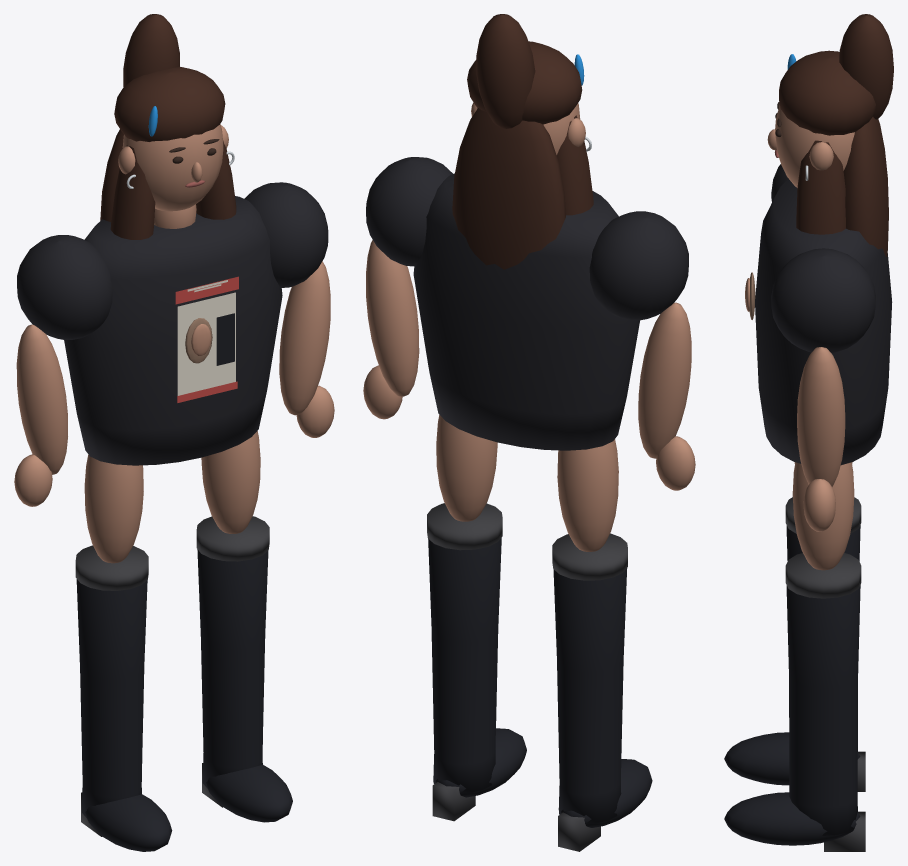
The model's file is reference_woman.glb.
3 views of the same model, side by side, from view 1: azimuth 30°, elevation 25°; view 2: azimuth 150°, elevation 25°; view 3: azimuth 270°, elevation 25° (orthographic). The views are drawn at different scales.
Visible parts, largest first — view 1: Oversized black graphic tee, Right tall boot shaft, Left tall boot shaft, Left tee sleeve, Hair cap, Right arm, Right tee sleeve, Left arm, Left lower leg, Face, Right lower leg, Ivory collage panel (+13 smaller); view 2: Oversized black graphic tee, Left tall boot shaft, Right tall boot shaft, Long back hair, Left tee sleeve, Left arm, Right tee sleeve, Right arm, Left lower leg, Half-up ponytail, Right lower leg, Hair cap (+10 smaller); view 3: Oversized black graphic tee, Right tall boot shaft, Right tee sleeve, Hair cap, Right arm, Long back hair, Right boot toe, Right lower leg, Half-up ponytail, Right wavy side lock, Left boot toe, Right boot cuff (+7 smaller).
Boxes of the visible parts, <box> form: Oversized black graphic tee: <box>64,196,282,465</box>; Right tall boot shaft: <box>197,549,268,788</box>; Left tall boot shaft: <box>76,579,147,817</box>; Left tee sleeve: <box>17,235,112,339</box>; Hair cap: <box>114,66,225,141</box>; Right arm: <box>279,261,330,415</box>; Right tee sleeve: <box>244,182,328,287</box>; Left arm: <box>16,324,67,474</box>; Left lower leg: <box>84,454,143,563</box>; Face: <box>122,124,223,211</box>; Right lower leg: <box>201,431,260,533</box>; Ivory collage panel: <box>177,292,235,395</box>; Oversized black graphic tee: <box>413,173,639,450</box>; Left tall boot shaft: <box>553,568,627,823</box>; Right tall boot shaft: <box>428,538,501,793</box>; Long back hair: <box>452,108,565,269</box>; Left tee sleeve: <box>589,211,688,320</box>; Left arm: <box>638,302,691,458</box>; Right tee sleeve: <box>366,157,452,266</box>; Right arm: <box>366,240,419,396</box>; Left lower leg: <box>557,439,618,551</box>; Half-up ponytail: <box>476,14,535,128</box>; Right lower leg: <box>436,415,497,521</box>; Hair cap: <box>467,41,582,124</box>; Oversized black graphic tee: <box>755,178,892,465</box>; Right tall boot shaft: <box>786,585,860,835</box>; Right tee sleeve: <box>771,248,875,353</box>; Hair cap: <box>779,50,875,135</box>; Right arm: <box>797,347,845,486</box>; Long back hair: <box>843,117,888,256</box>; Right boot toe: <box>724,792,860,845</box>; Right lower leg: <box>792,462,854,570</box>; Half-up ponytail: <box>839,14,893,119</box>; Right wavy side lock: <box>796,140,845,234</box>; Left boot toe: <box>724,732,860,785</box>; Right boot cuff: <box>785,553,861,598</box>.
Size of the model in its own units: 0.786 by 1.87 by 0.3585.
